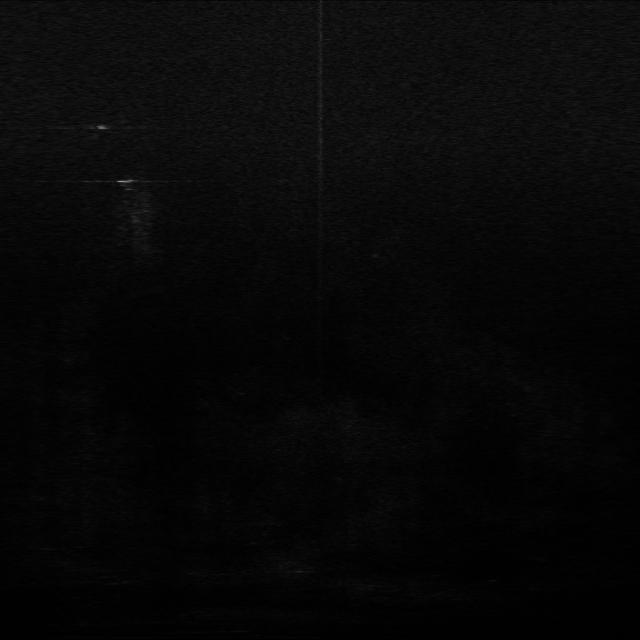rov: (113, 174, 137, 193)
